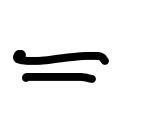eqv: (6, 45, 110, 86)
